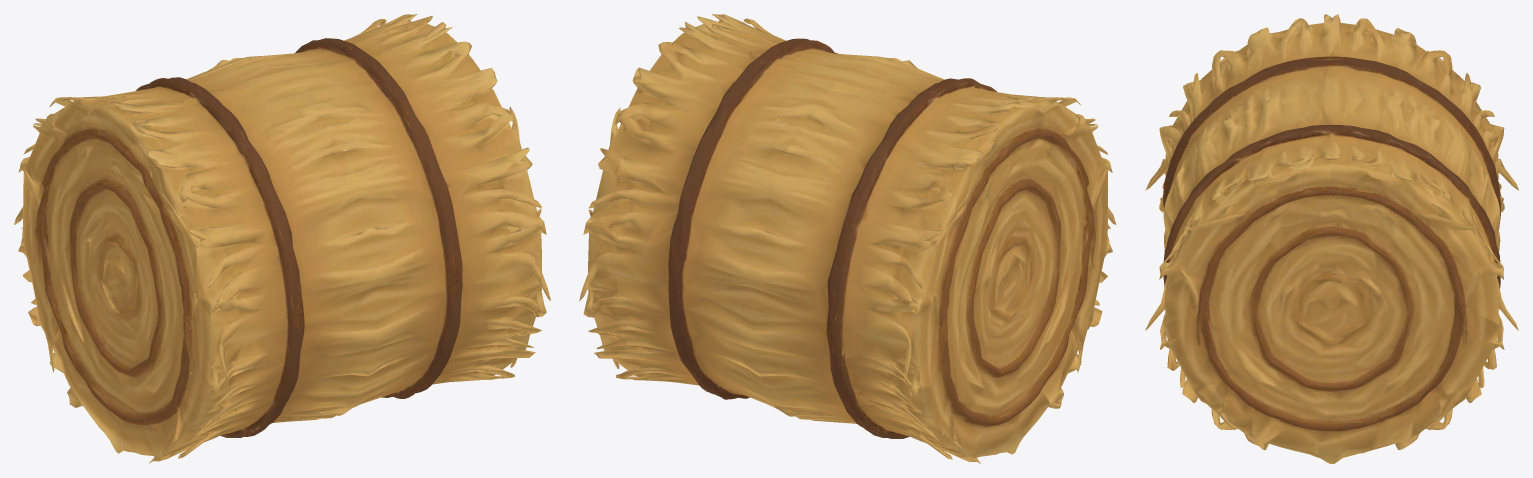
File: bale.glb
3 renders of one model, left to right at view 1: azimuth 30°, elevation 25°; view 2: azimuth 150°, elevation 25°; view 3: azimuth 270°, elevation 25°, orthographic. The views are drawn at different scales.
Parts seen in each view (by area): view 1: Mesh_0; view 2: Mesh_0; view 3: Mesh_0.
Boxes of the visible parts, x1,y1,x2,y2 form: Mesh_0: (14,14,550,463); Mesh_0: (579,14,1116,463); Mesh_0: (1145,14,1518,463).
Bounding box in the file's own units: 1.82 × 1.73 × 1.91.
1 material, 1 textured.
